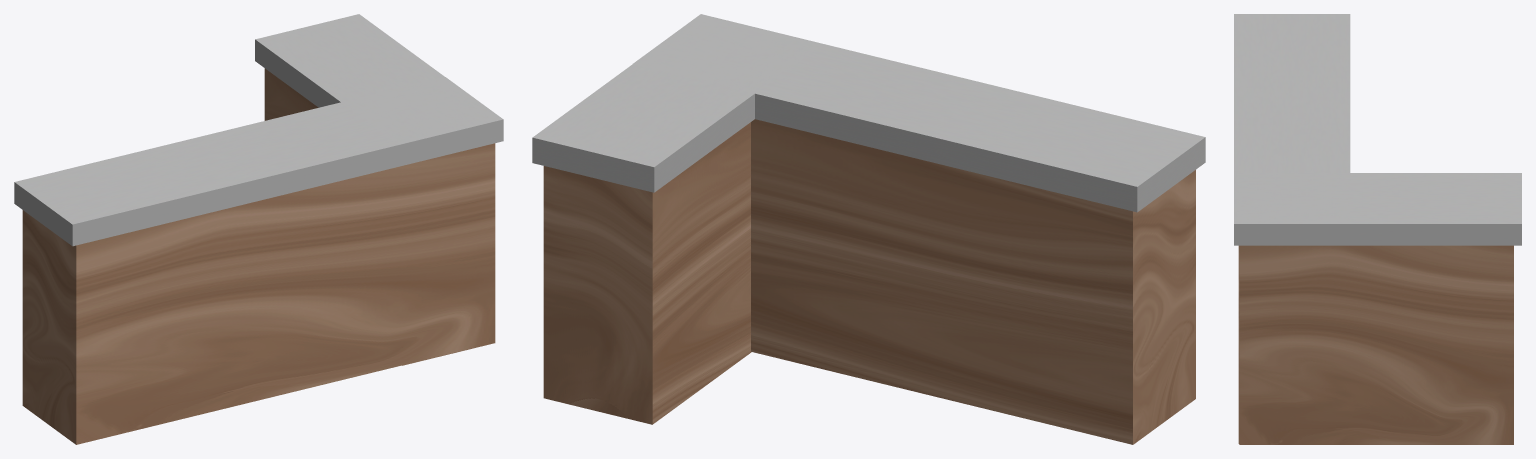
The model's file is frontdesk 1.fbx.
3 renders of one model, left to right at view 1: azimuth 30°, elevation 25°; view 2: azimuth 150°, elevation 25°; view 3: azimuth 270°, elevation 25°, orthographic. The views are drawn at different scales.
Parts seen in each view (by area): view 1: pasted__pCube1 (×2), pCube1, pasted__pasted__pCube1; view 2: pasted__pCube1 (×2), pasted__pasted__pCube1, pCube1; view 3: pasted__pasted__pCube1, pCube1, pasted__pCube1 (×2).
Boxes of the visible parts, x1,y1,x2,y2 form: pasted__pCube1 (×2): (22, 14, 501, 444); pCube1: (14, 77, 503, 246); pasted__pasted__pCube1: (264, 68, 494, 365); pasted__pCube1 (×2): (532, 15, 1195, 444); pasted__pasted__pCube1: (543, 122, 751, 424); pCube1: (633, 14, 1205, 212); pasted__pasted__pCube1: (1239, 245, 1513, 444); pCube1: (1234, 14, 1350, 245); pasted__pCube1 (×2): (1237, 173, 1521, 443).
Bounding box in the file's own units: 5.89 × 2.93 × 3.41.
2 materials, 2 textured.
